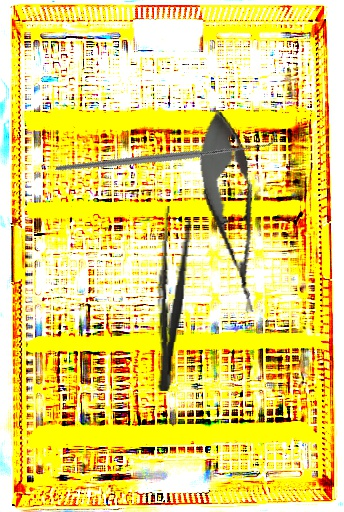Dressing Forceps: (149, 205, 194, 393)
Hook Surgical: (54, 57, 278, 247)
Micro Scissor: (188, 106, 276, 317)
